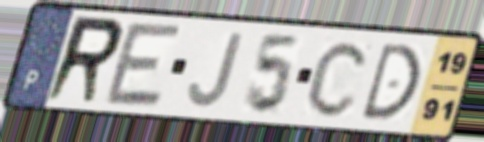5: (241, 31, 305, 116)
C: (303, 38, 373, 120)
D: (357, 41, 423, 122)
E: (101, 20, 186, 110)
J: (186, 31, 247, 110)
R: (39, 13, 127, 107)
